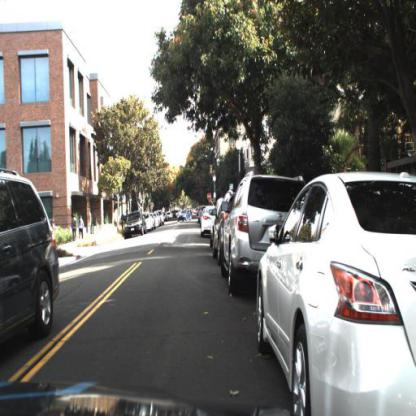car: (258, 173, 416, 416), (1, 170, 61, 353), (221, 178, 286, 289), (211, 189, 234, 265), (122, 209, 146, 240), (199, 201, 215, 240), (200, 206, 216, 238), (177, 207, 194, 223), (143, 212, 154, 233)
pedestrian: (69, 212, 79, 243), (78, 213, 86, 243)
